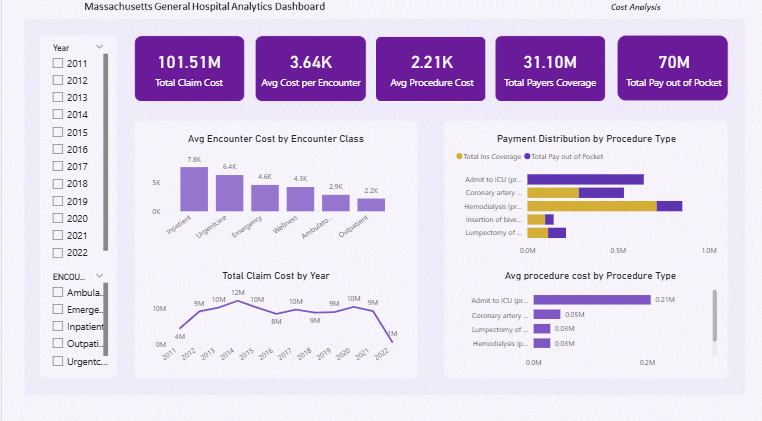

Layout of this report page (visuals, bound fields, positions):
{"tool":"powerbi","page":{"name":"COST","canvas":[1280,720],"ordinal":2},"visuals":[{"type":"card","fields":{"Values":["Sum(encounters.TOTAL_CLAIM_COST)"]},"box":[235.2,75.6,157.9,92.4],"z":0},{"type":"card","fields":{"Values":["procedures.Avg Procedure Cost"]},"box":[640,75.6,164.6,92.4],"z":1000},{"type":"card","fields":{"Values":["encounters.Avg Cost per Encounter"]},"box":[430,75.6,178.1,92.4],"z":2000},{"type":"card","fields":{"Values":["encounters.Total Ins Coverage"]},"box":[838.2,75.6,164.6,92.4],"z":3000},{"type":"card","fields":{"Values":["encounters.Total Pay out of Pocket"]},"box":[1039.8,75.6,178.1,92.4],"z":4000},{"type":"clusteredBarChart","title":"Avg procedure cost by Procedure Type","fields":{"Category":["procedures.PROCEDURE_TYPE"],"Y":["procedures.Avg Procedure Cost"]},"box":[771,460.3,435.1,174.7],"z":5000},{"type":"barChart","title":"Payment Distribution by Procedure Type","fields":{"Category":["procedures.PROCEDURE_TYPE"],"Y":["encounters.Total Ins Coverage","encounters.Total Pay out of Pocket"]},"box":[757.6,230.1,448.5,216.7],"z":6000},{"type":"lineChart","title":"Total Claim Cost by Year","fields":{"Category":["encounters.ENCOUNTER_START.Variation.Date Hierarchy.Year"],"Y":["Sum(encounters.TOTAL_CLAIM_COST)"]},"box":[246.9,460.3,426.7,174.7],"z":7000},{"type":"clusteredColumnChart","title":"Avg Encounter Cost by Encounter Class","fields":{"Y":["encounters.Avg Cost per Encounter"],"Category":["encounters.ENCOUNTER_CLASS"]},"box":[246.9,230.1,426.7,193.2],"z":8000},{"type":"slicer","fields":{"Values":["encounters.ENCOUNTER_START.Variation.Date Hierarchy.Year"]},"box":[72.2,75.6,110.9,371.2],"z":9000},{"type":"slicer","fields":{"Values":["encounters.ENCOUNTER_CLASS"]},"box":[72.2,460.3,110.9,174.7],"z":10000}]}

Visuals, with their boxes in screenshot pixels (x1, y1, x2, y2), scaled from the page's 1280x720 canvas onto the 762x421 screenshot:
card - Sum(encounters.TOTAL_CLAIM_COST): x1=140 y1=44 x2=234 y2=98
card - procedures.Avg Procedure Cost: x1=381 y1=44 x2=479 y2=98
card - encounters.Avg Cost per Encounter: x1=256 y1=44 x2=362 y2=98
card - encounters.Total Ins Coverage: x1=499 y1=44 x2=597 y2=98
card - encounters.Total Pay out of Pocket: x1=619 y1=44 x2=725 y2=98
"Avg procedure cost by Procedure Type" clusteredBarChart: x1=459 y1=269 x2=718 y2=371
"Payment Distribution by Procedure Type" barChart: x1=451 y1=135 x2=718 y2=261
"Total Claim Cost by Year" lineChart: x1=147 y1=269 x2=401 y2=371
"Avg Encounter Cost by Encounter Class" clusteredColumnChart: x1=147 y1=135 x2=401 y2=248
slicer - encounters.ENCOUNTER_START.Variation.Date Hierarchy.Year: x1=43 y1=44 x2=109 y2=261
slicer - encounters.ENCOUNTER_CLASS: x1=43 y1=269 x2=109 y2=371
